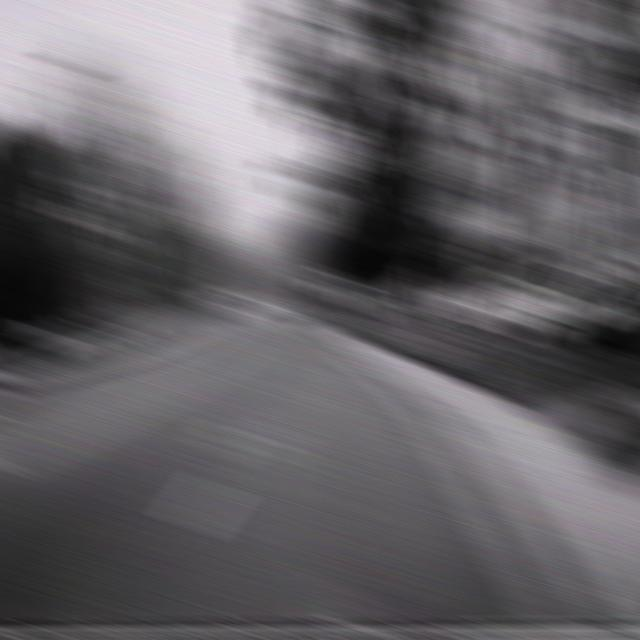speedLimit35: (529, 100, 583, 186)
